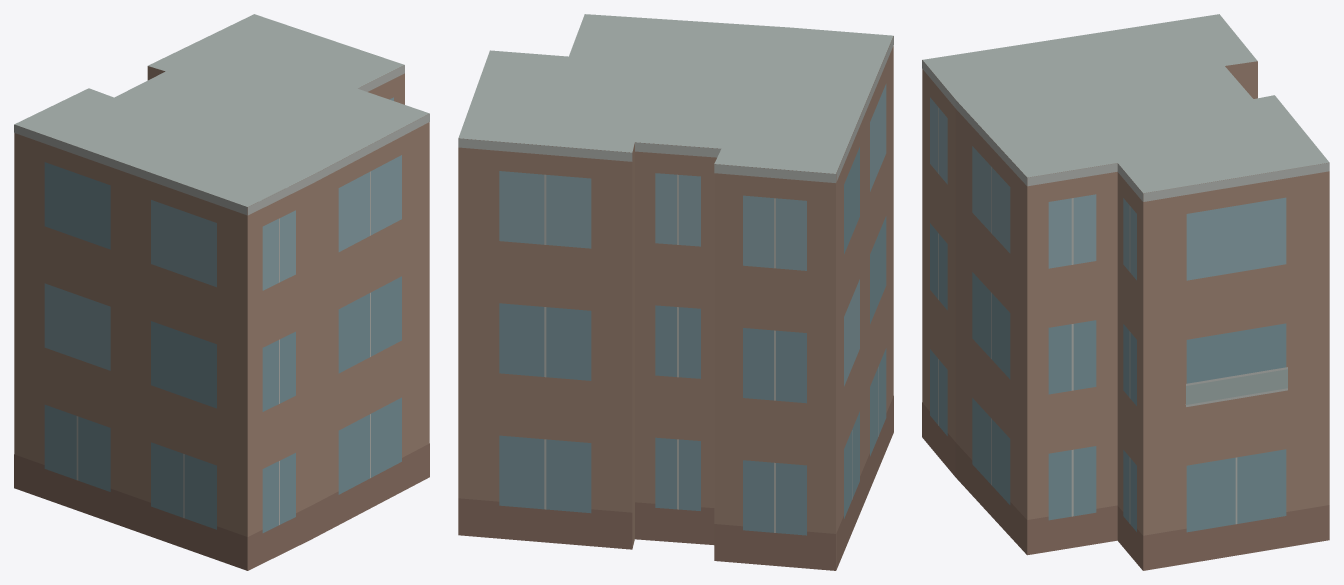
Rendered from survey-upis-32930229.glb.
3 views of the same model, side by side, from view 1: azimuth 30°, elevation 25°; view 2: azimuth 150°, elevation 25°; view 3: azimuth 270°, elevation 25° (orthographic). The views are drawn at different scales.
Visible parts, largest first — view 1: survey-upis-32930229.tmp; view 2: survey-upis-32930229.tmp; view 3: survey-upis-32930229.tmp.
Part boxes in pixels (<box>): survey-upis-32930229.tmp: <box>14,14,429,570</box>; survey-upis-32930229.tmp: <box>458,14,893,570</box>; survey-upis-32930229.tmp: <box>922,14,1329,570</box>.
Size of the model in its own units: 10.7 by 10.5 by 10.28.
